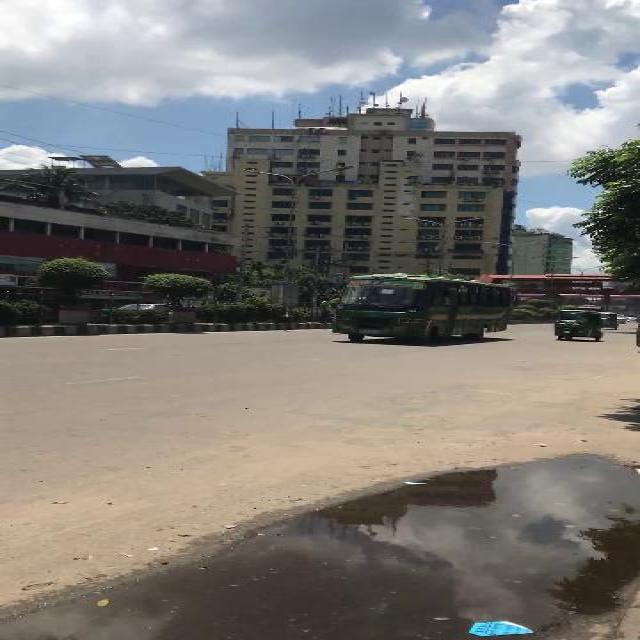vehicle: (328, 273, 513, 344), (554, 309, 604, 343), (599, 312, 619, 330)
